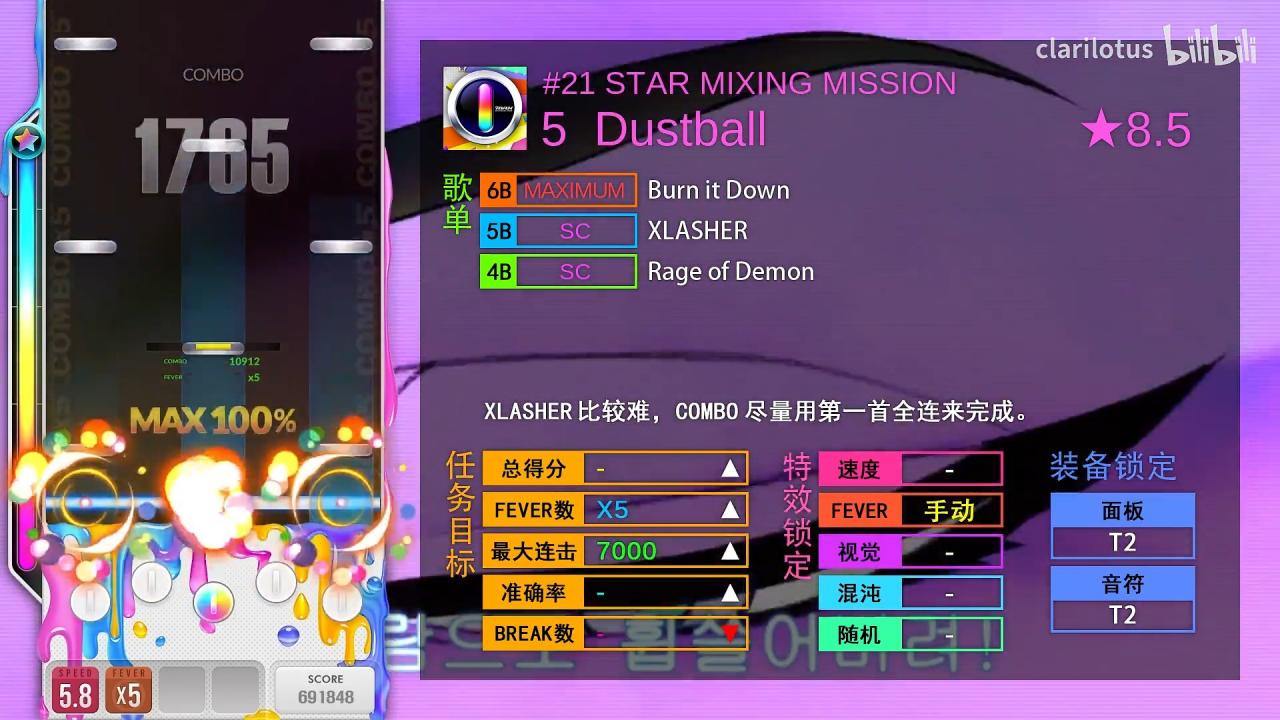note: (182, 342, 246, 356), (310, 443, 374, 457), (54, 240, 117, 254), (310, 37, 373, 51), (54, 443, 116, 457), (310, 241, 373, 254), (182, 139, 244, 152), (54, 38, 116, 50)
